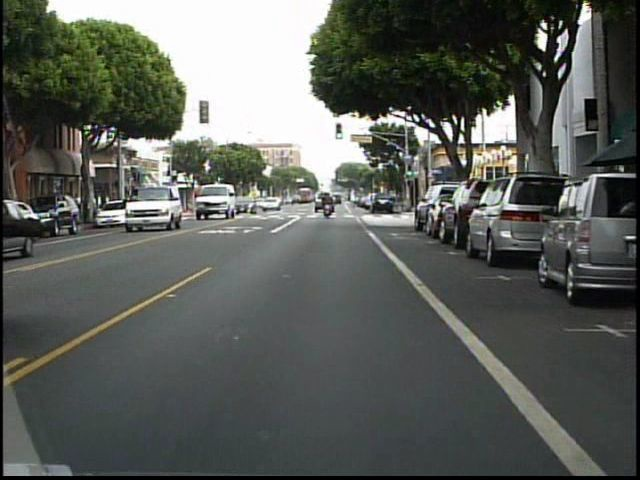person: (319, 191, 335, 220)
